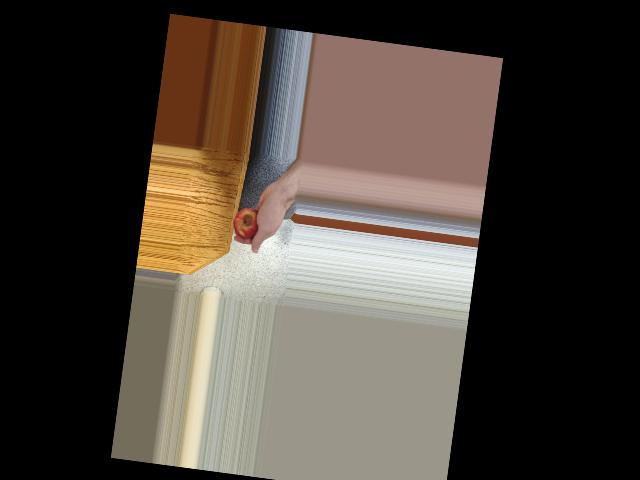apple: (230, 198, 265, 242)
